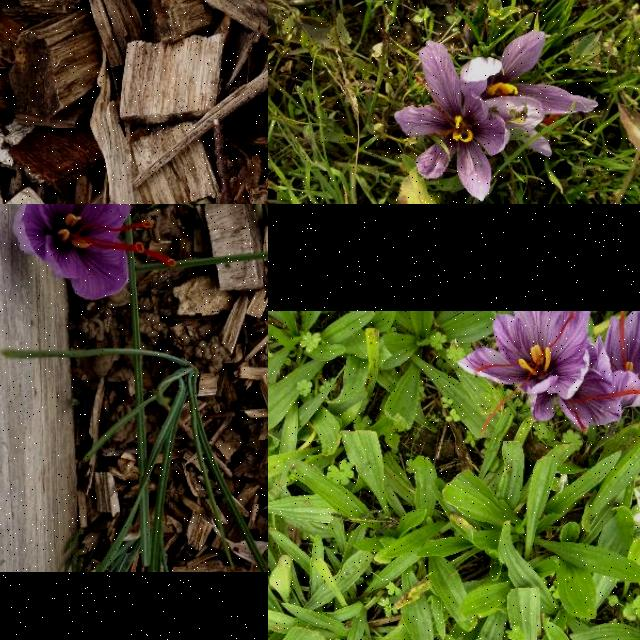flower: (394, 40, 512, 202), (11, 204, 178, 302)
overlap: (458, 311, 640, 433), (462, 31, 598, 157)
